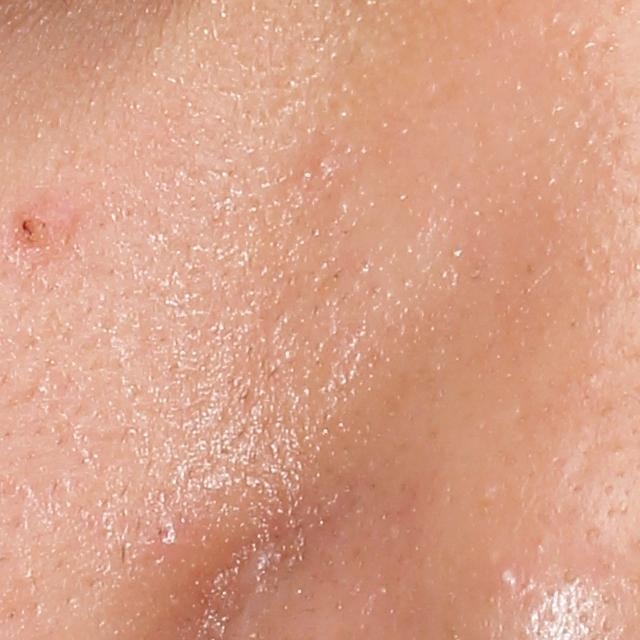papule: (11, 196, 76, 250)
pustule: (492, 561, 519, 590)
